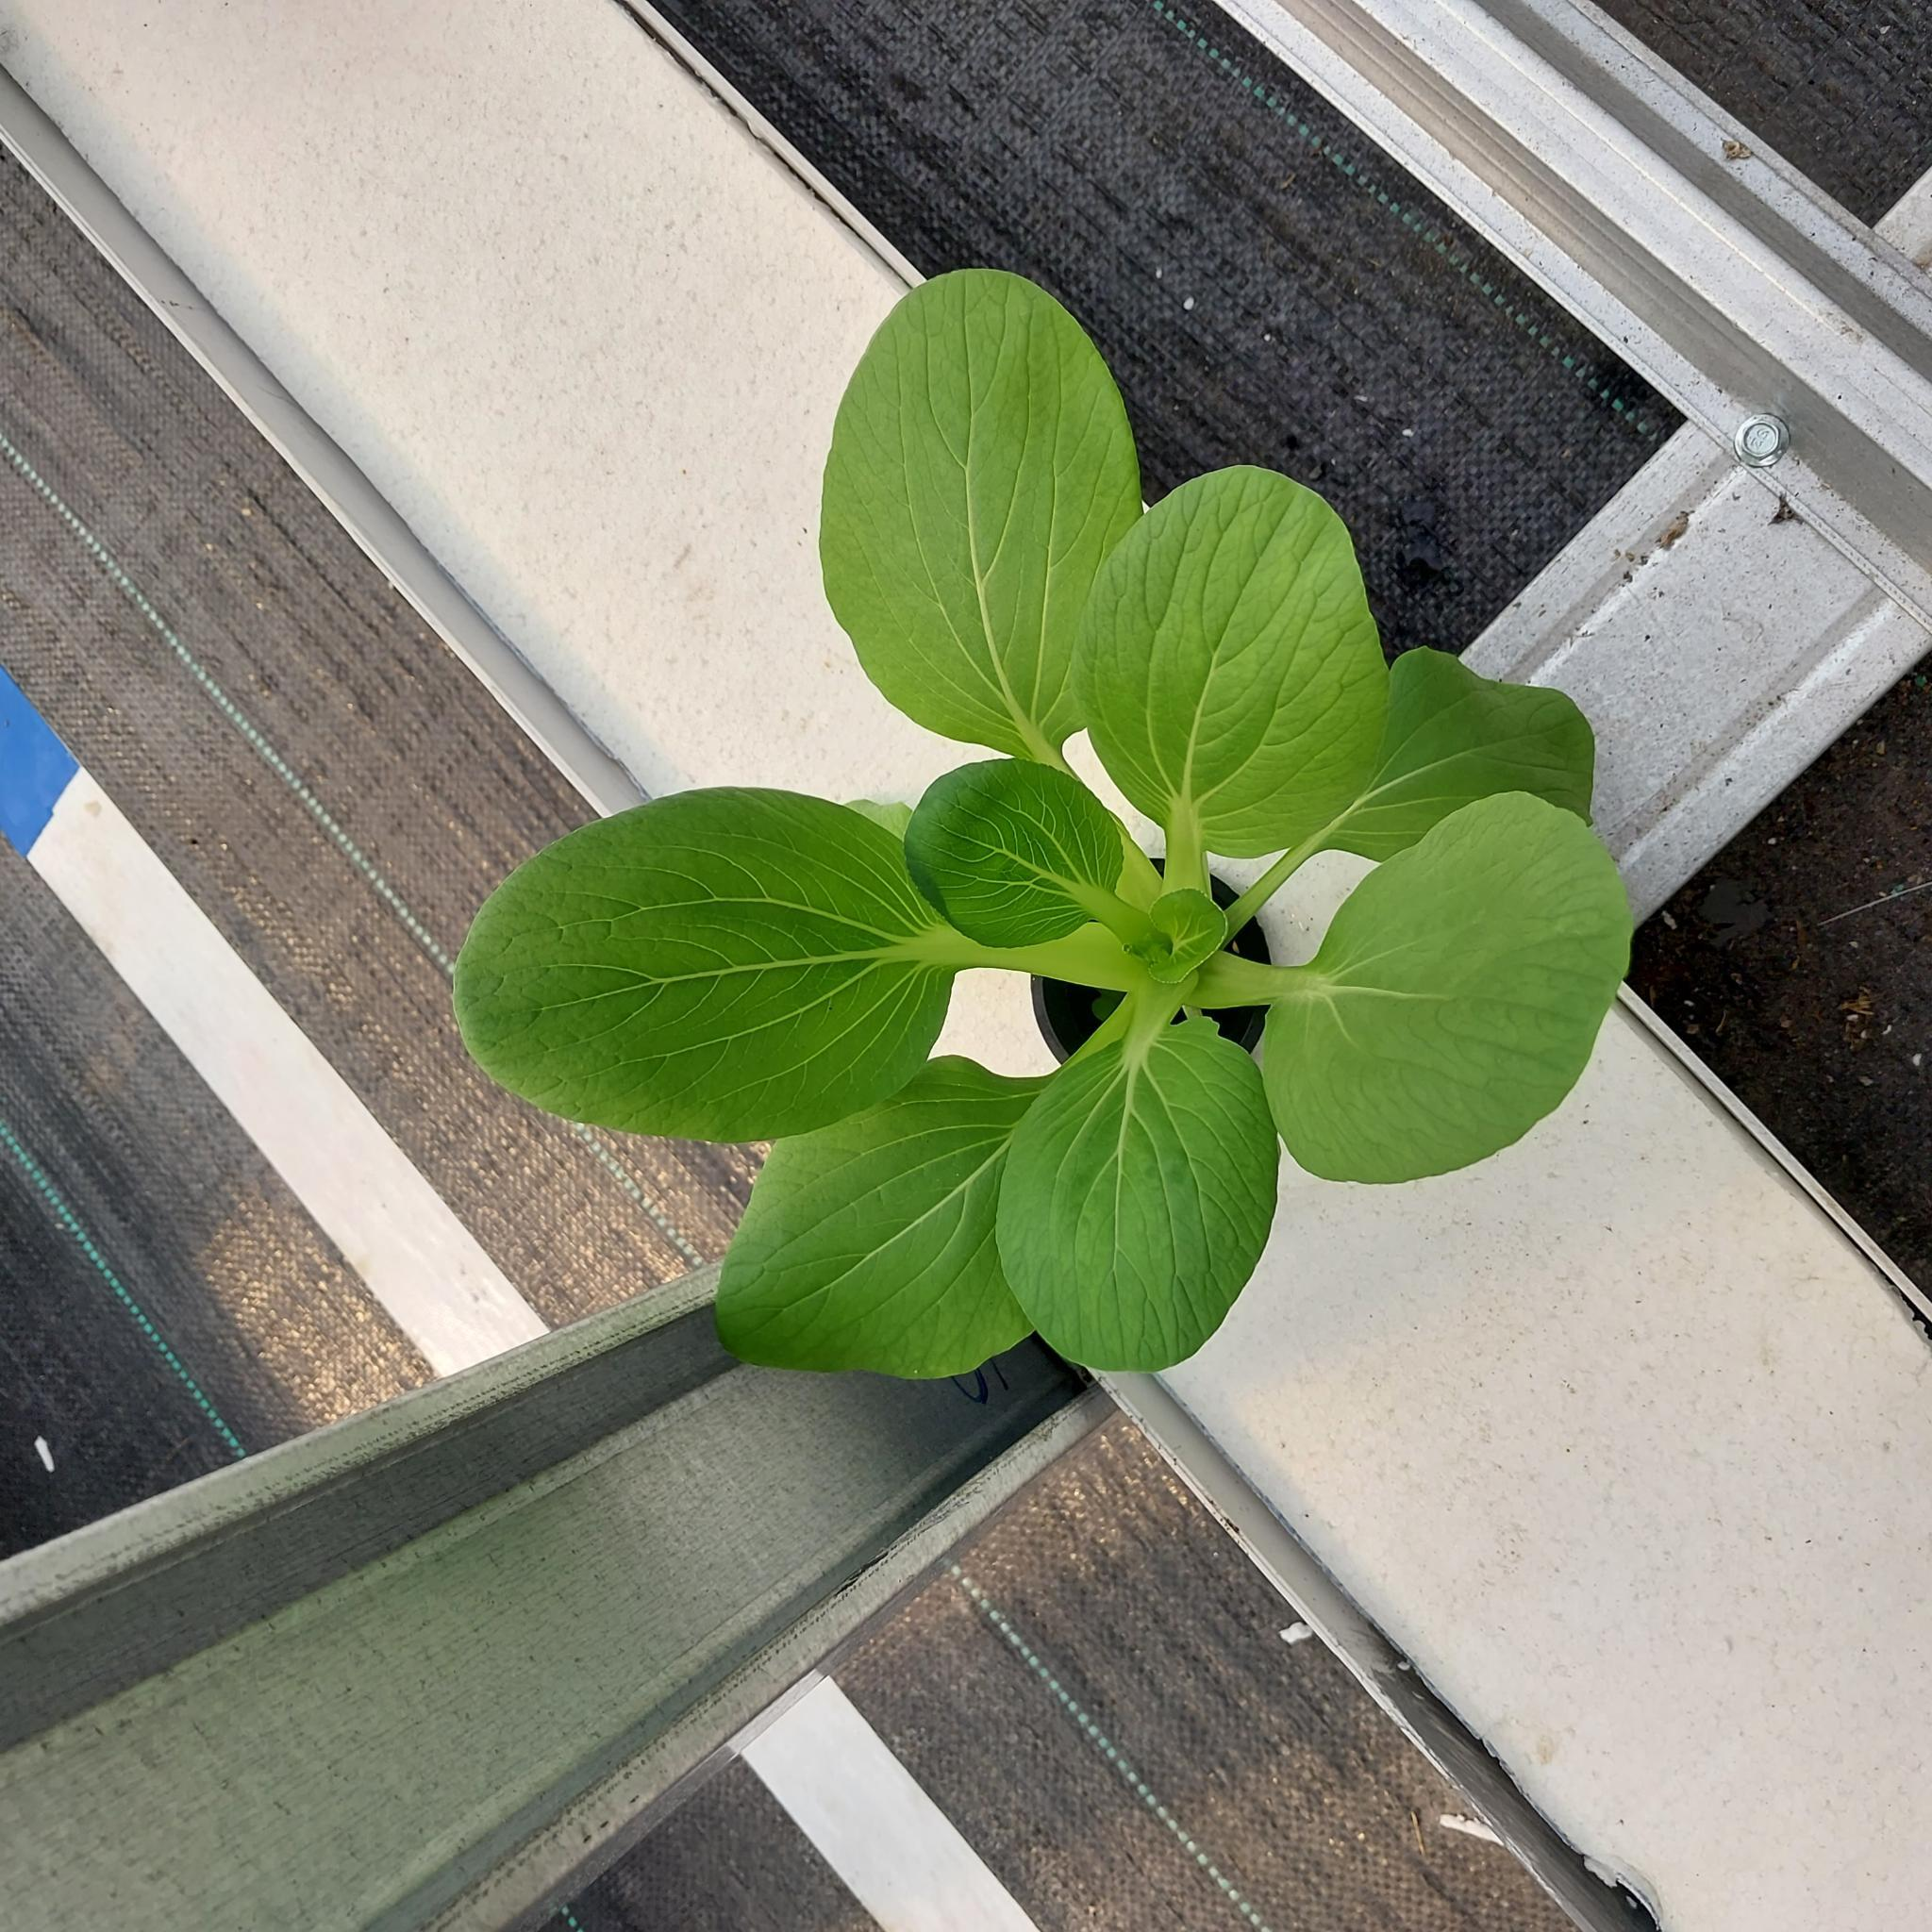Healthy-Pechay: (446, 793, 984, 1139), (821, 260, 1131, 791), (1246, 794, 1635, 1173), (1067, 465, 1387, 870), (713, 1056, 1054, 1387), (993, 1012, 1270, 1378), (1300, 648, 1606, 863), (554, 885, 895, 959), (1276, 971, 1507, 1014)
